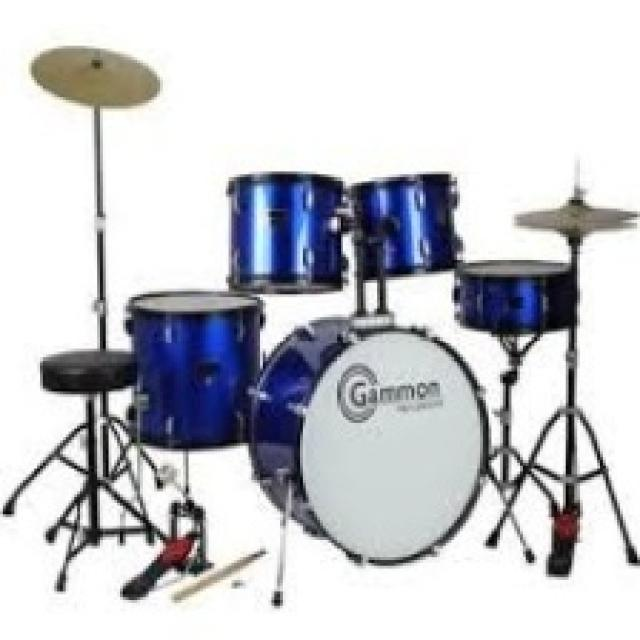drums: (19, 35, 640, 588)
